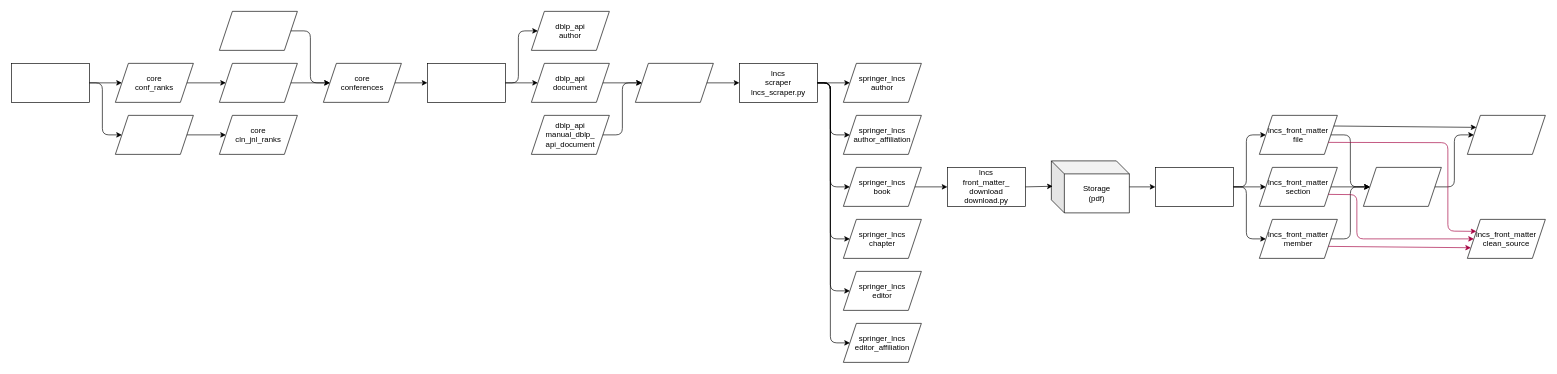
The diagram is 1557 pixels wide and 374 high, and some of its shapes have lost their labels. Here are the shapes that lost their labels. From the top down, the centre of each, then its label:
At (x=258, y=30): "core manual_dblp_url".
At (x=50, y=82): "core_scraper extractor.py".
At (x=258, y=82): "core cln_conf_ranks".
At (x=466, y=82): "dblp_api api_extractor.py".
At (x=674, y=82): "dblp_api lncs".
At (x=154, y=134): "core jnl_ranks".
At (x=1506, y=134): "lncs_front_matter run_performance_ metrics".
At (x=1194, y=186): "pdf_parser".
At (x=1402, y=186): "lncs_front_matter validation".
